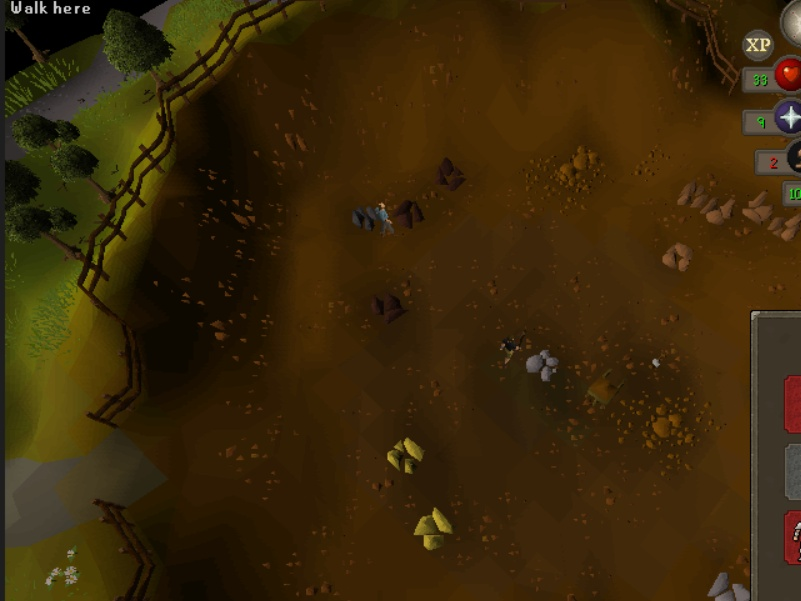copper: (658, 232, 699, 276), (741, 187, 775, 234), (700, 193, 738, 230), (768, 204, 801, 244), (677, 178, 711, 213)
gold: (408, 502, 457, 555), (380, 432, 429, 476)
iron: (426, 150, 476, 197), (366, 289, 417, 324), (389, 195, 428, 230)
tin: (707, 569, 750, 601)
